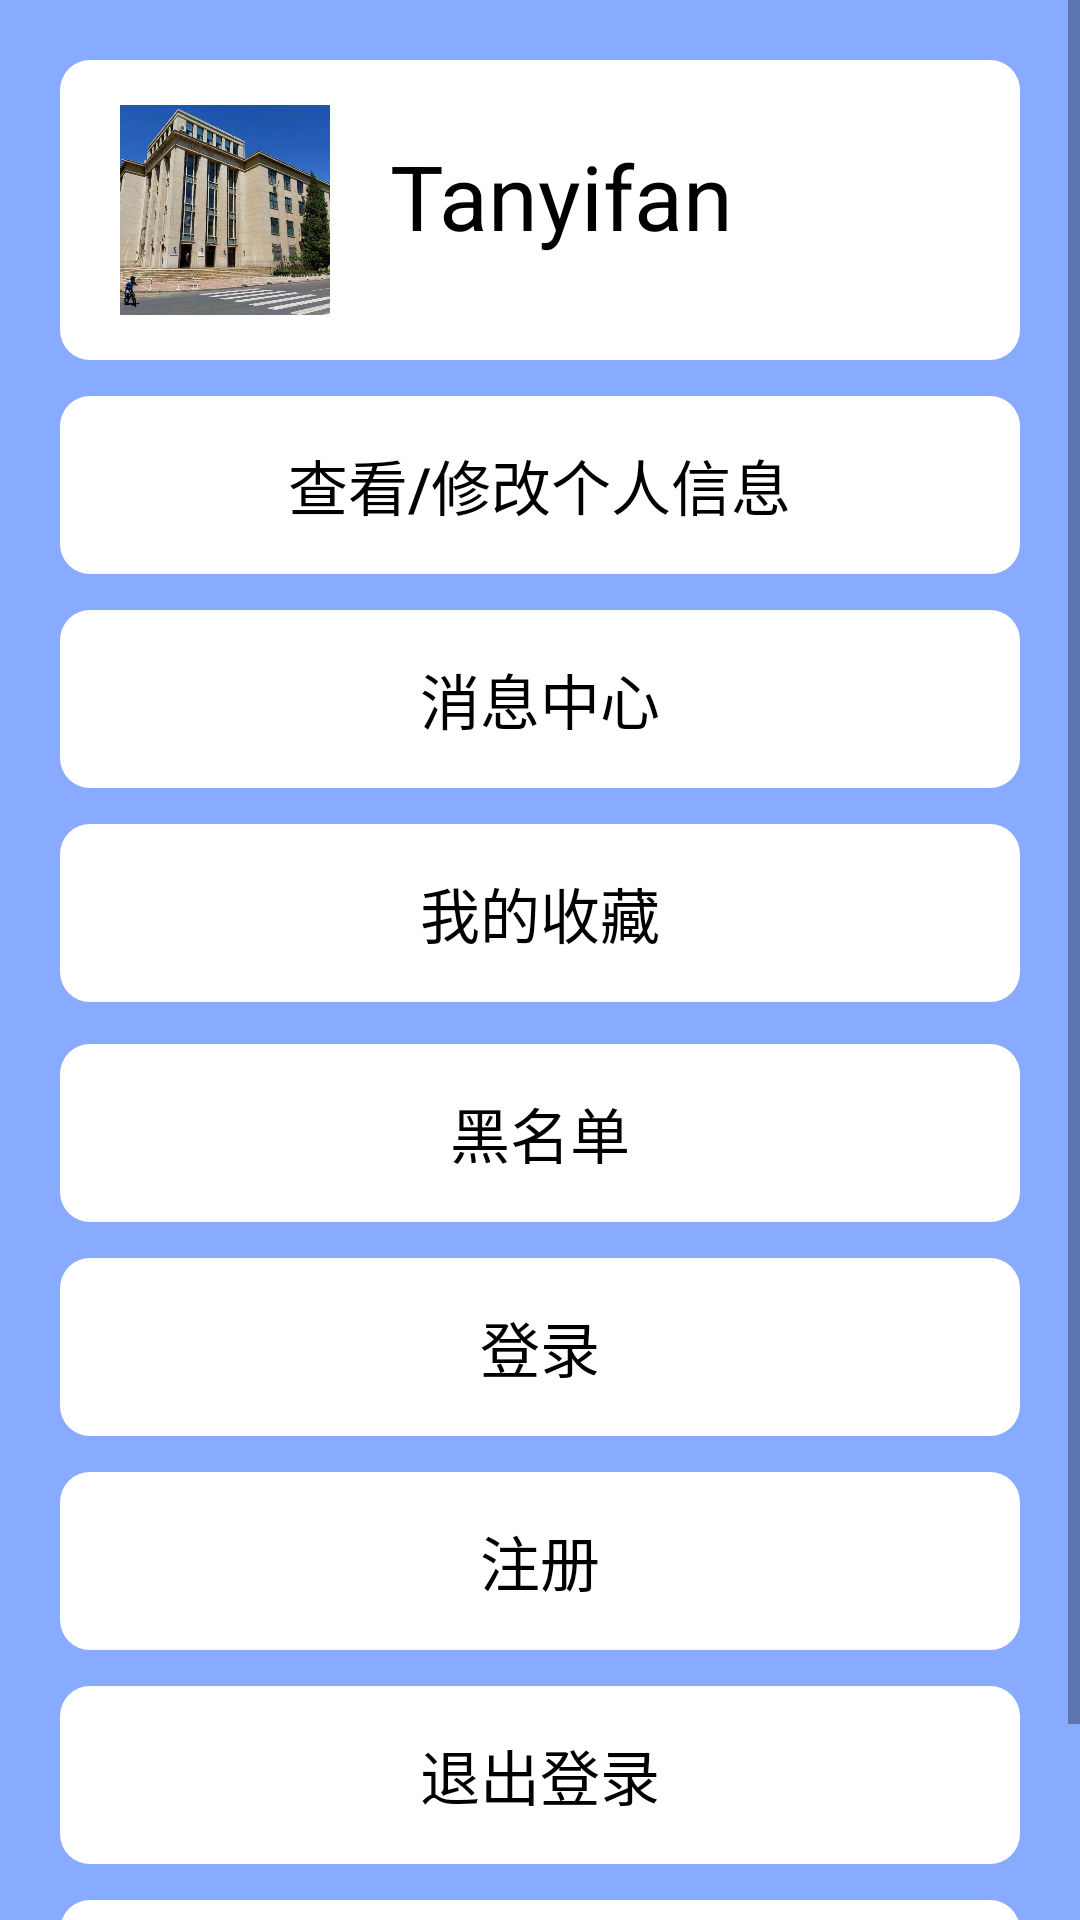

Point at icon controls on the screen. Image size 1080 x 1920, points as [x,y].
thussbuilding: [225,210]
